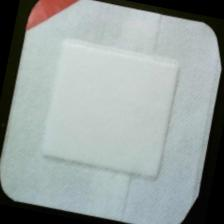Dressing: (1, 1, 224, 224)
Red_T: (18, 1, 90, 47)
